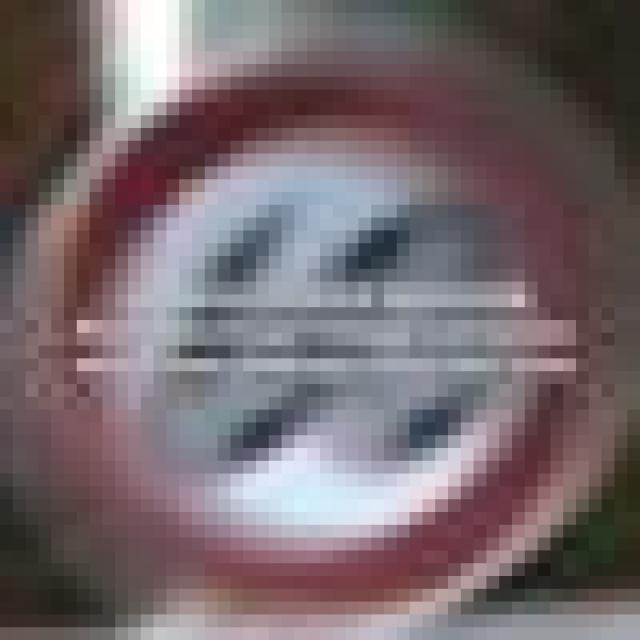speed_limit_40: (26, 51, 588, 589)
